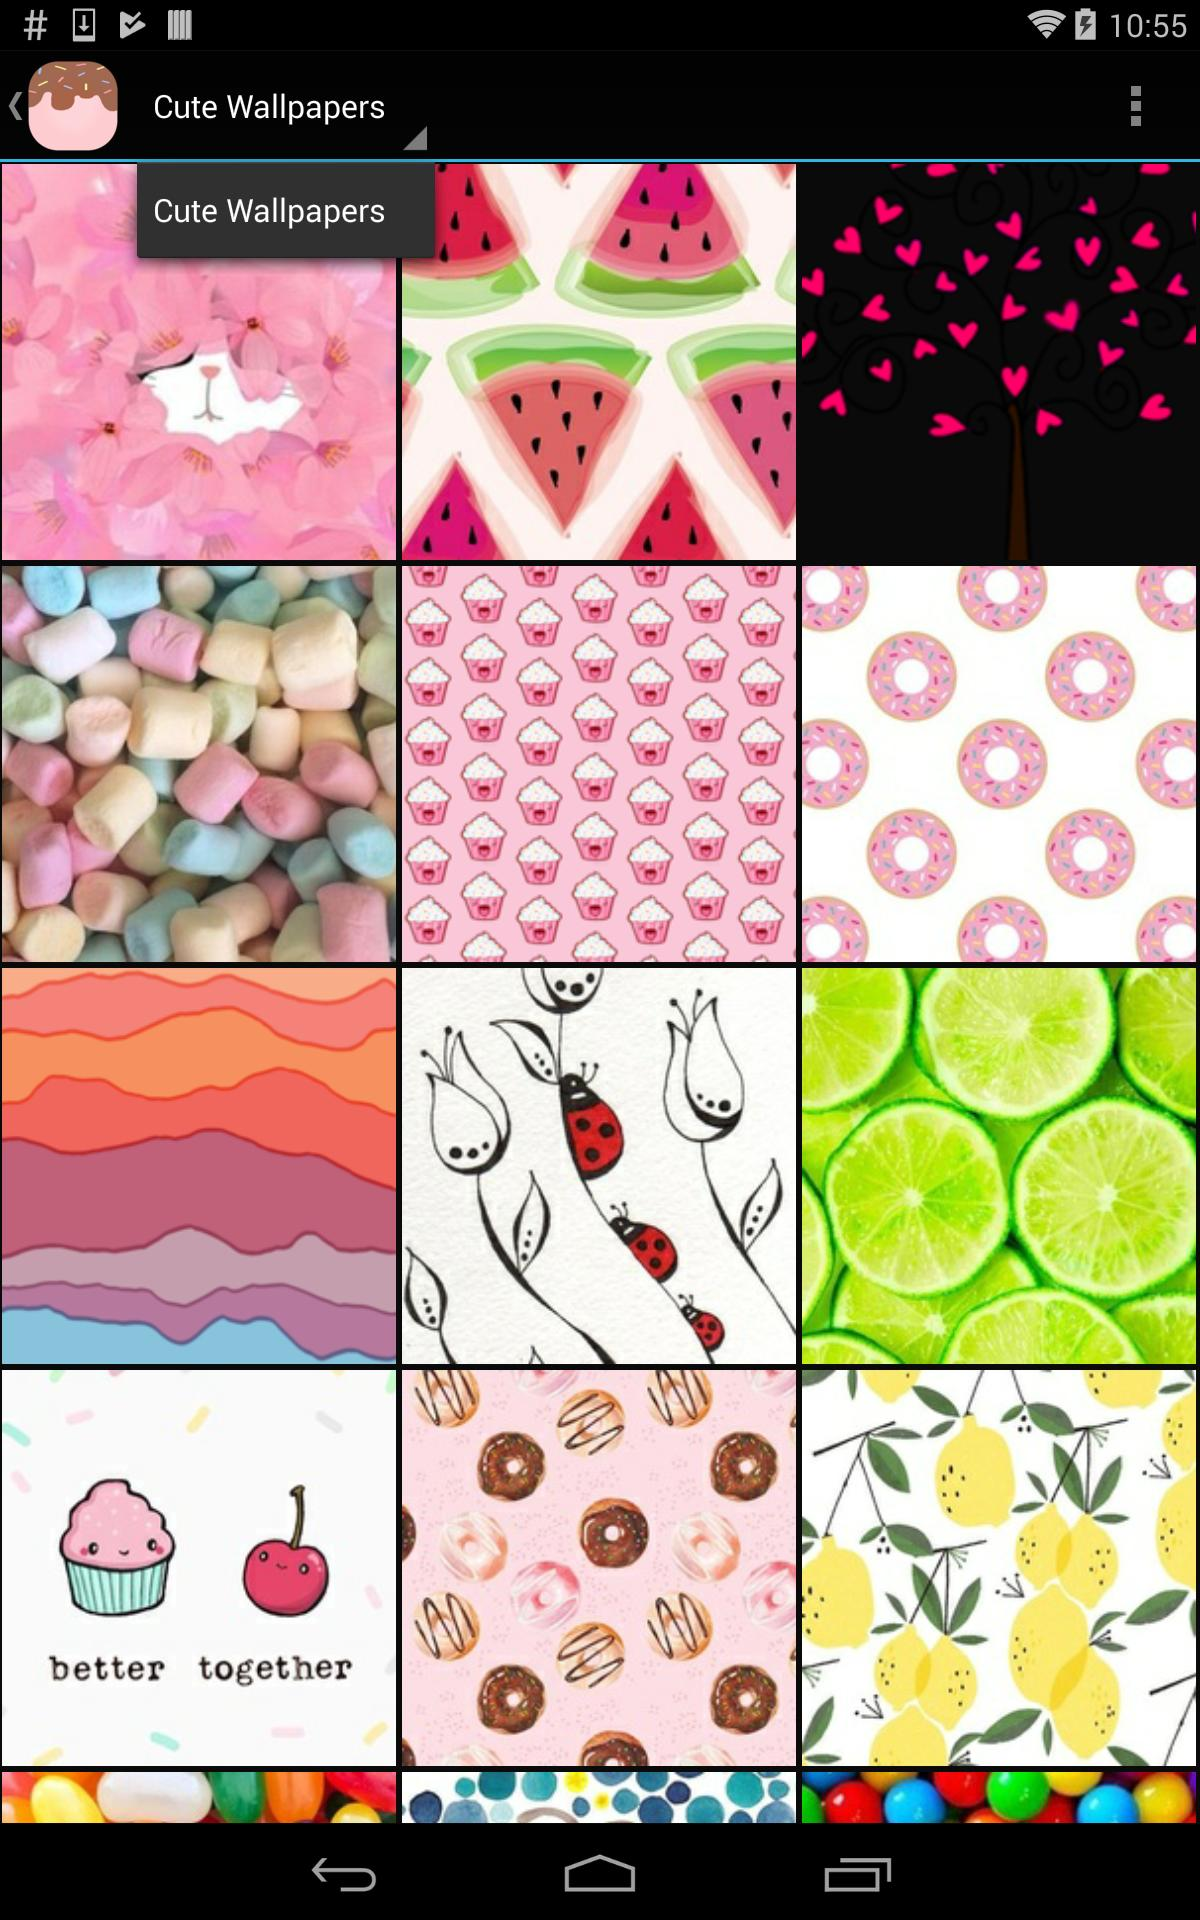android.widget.FrameLayout: (122, 147, 451, 274)
android.widget.TextView: (137, 162, 435, 258)
